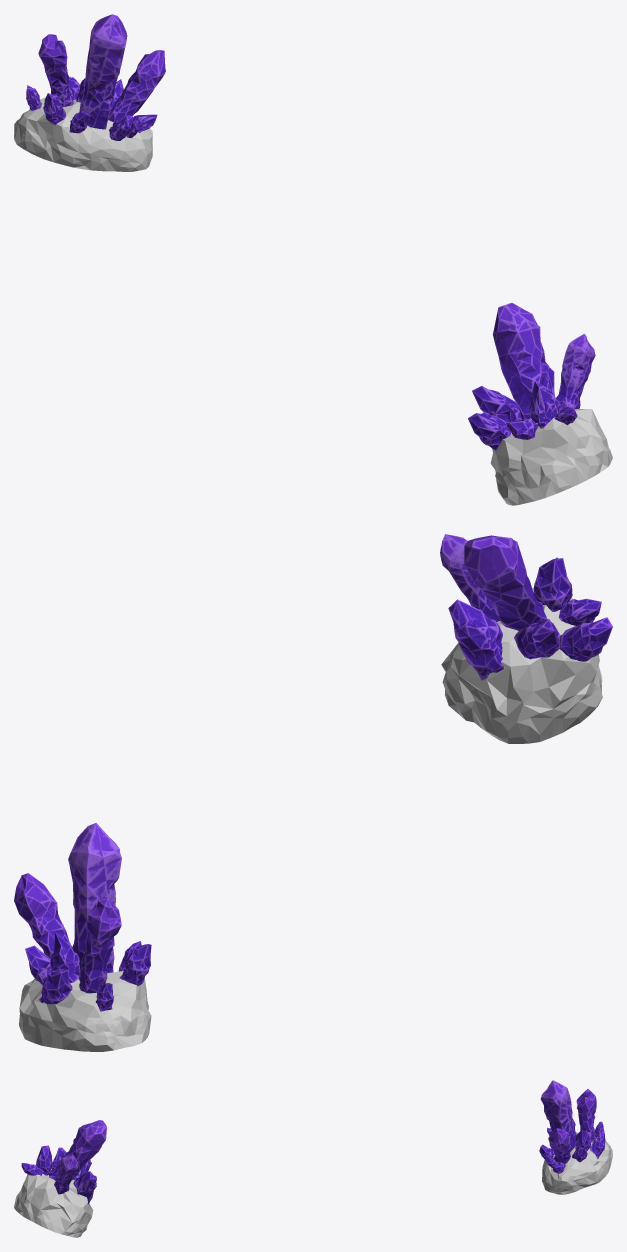
File: Crystal 1.fbx
3 renders of one model, top to bottom at view 1: azimuth 30°, elevation 25°; view 2: azimuth 150°, elevation 25°; view 3: azimuth 270°, elevation 25°, orthographic. The views are drawn at different scales.
Parts seen in each view (by area): view 1: Minerals_Collection, Mineral_Stone1; view 2: Minerals_Collection, Mineral_Stone1; view 3: Minerals_Collection, Mineral_Stone1.
Part boxes in pixels (box(x1,y1,x2,y2)): Minerals_Collection: box(468, 302, 612, 505); Mineral_Stone1: box(14, 14, 165, 171); Minerals_Collection: box(440, 534, 612, 743); Mineral_Stone1: box(14, 823, 151, 1051); Minerals_Collection: box(14, 1120, 106, 1237); Mineral_Stone1: box(539, 1080, 612, 1194).
Size of the model in its own units: 3.44 by 4.06 by 15.93.
